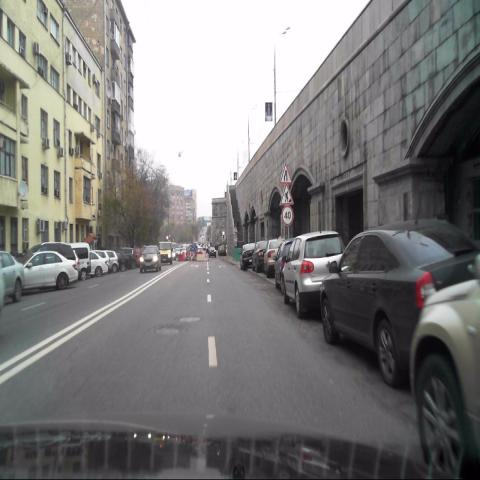1_20_3: (280, 162, 292, 183)
